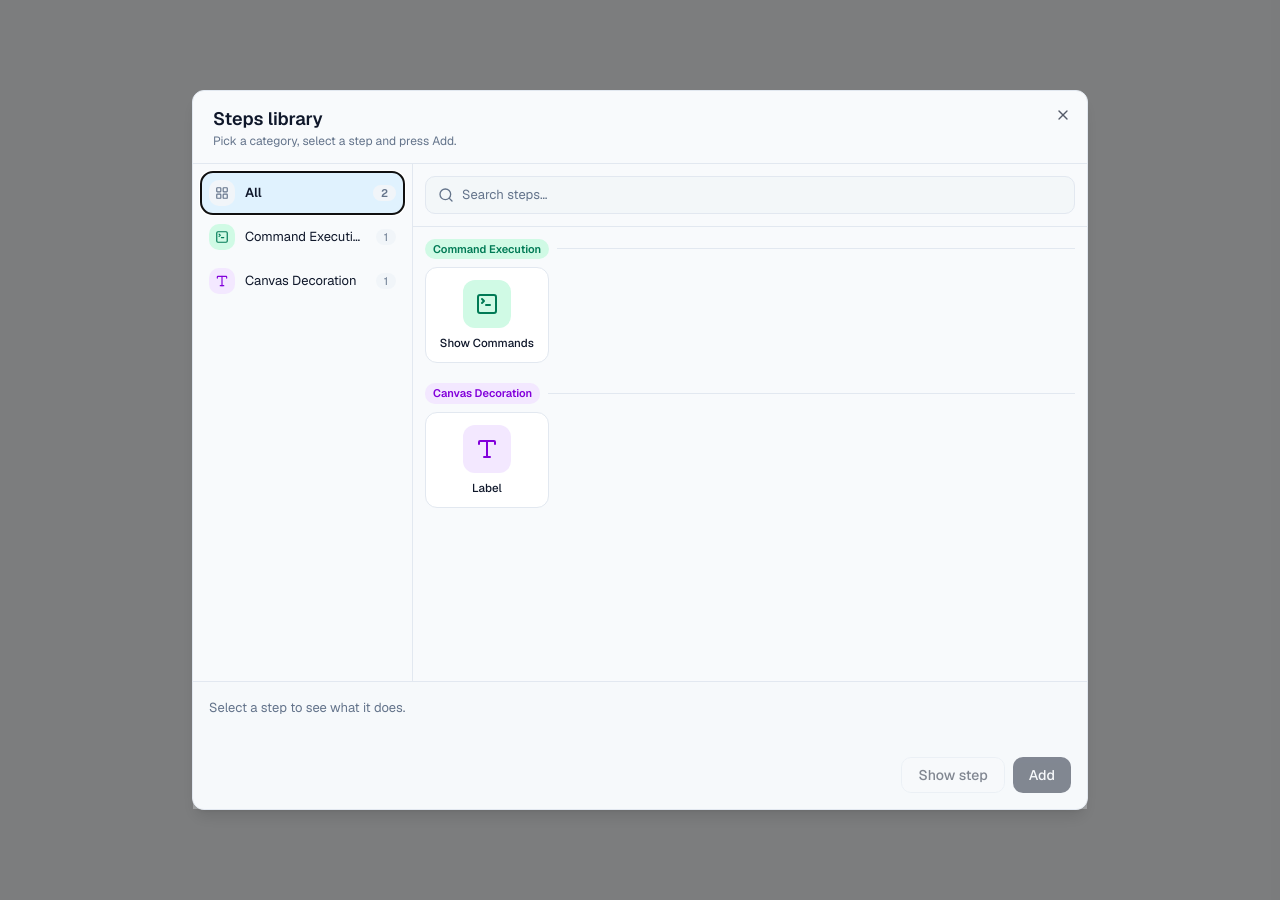
Test case: StepLibraryDialog › shows the step details in a second modal without adding the step
This screenshot has width=1280, height=900.
Expected: the button "Show step" is disabled, [901, 757, 1005, 793]
Click the button "Show Commands": (487, 315) [425, 267, 549, 363]
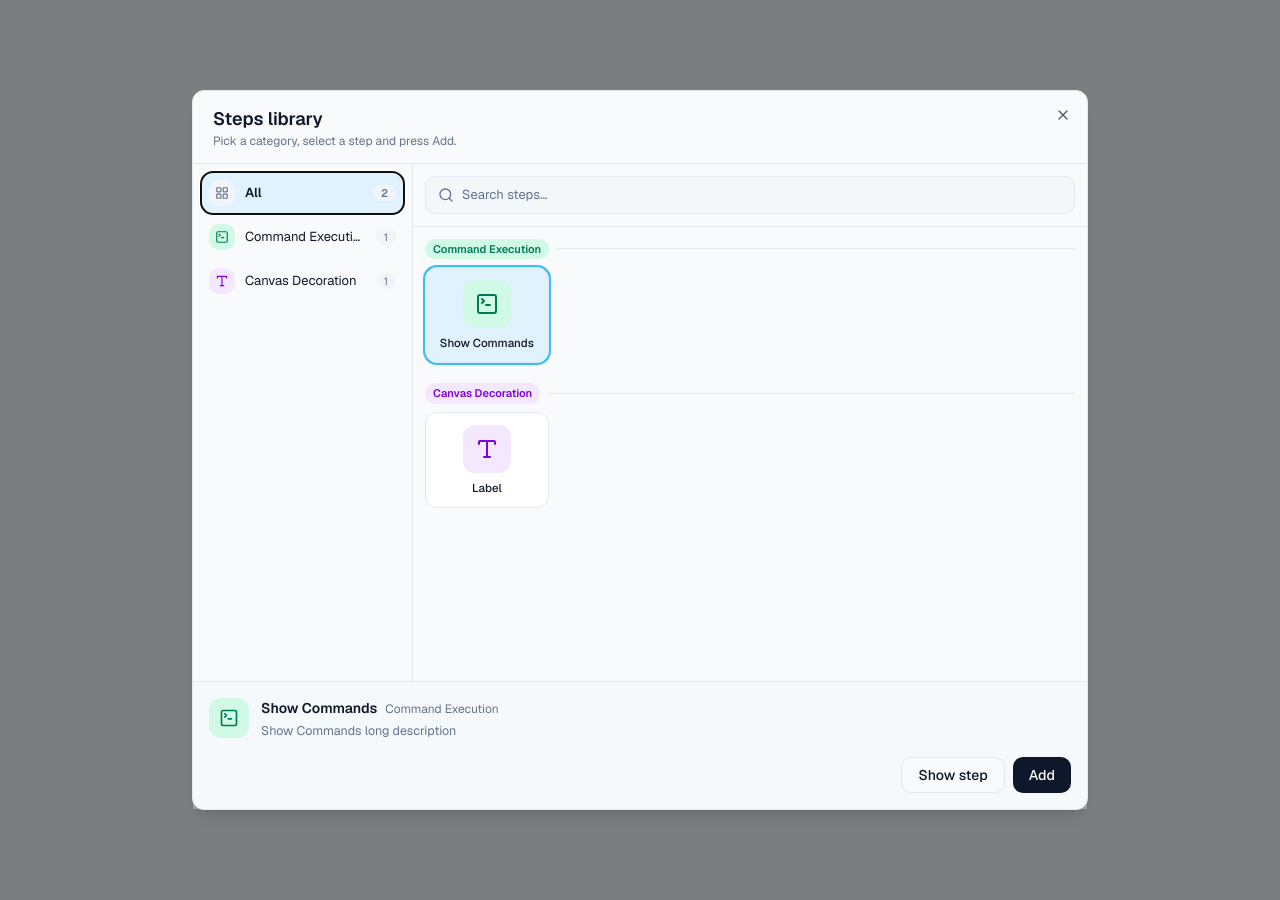
Click the button "Show step": (953, 775) [901, 757, 1005, 793]
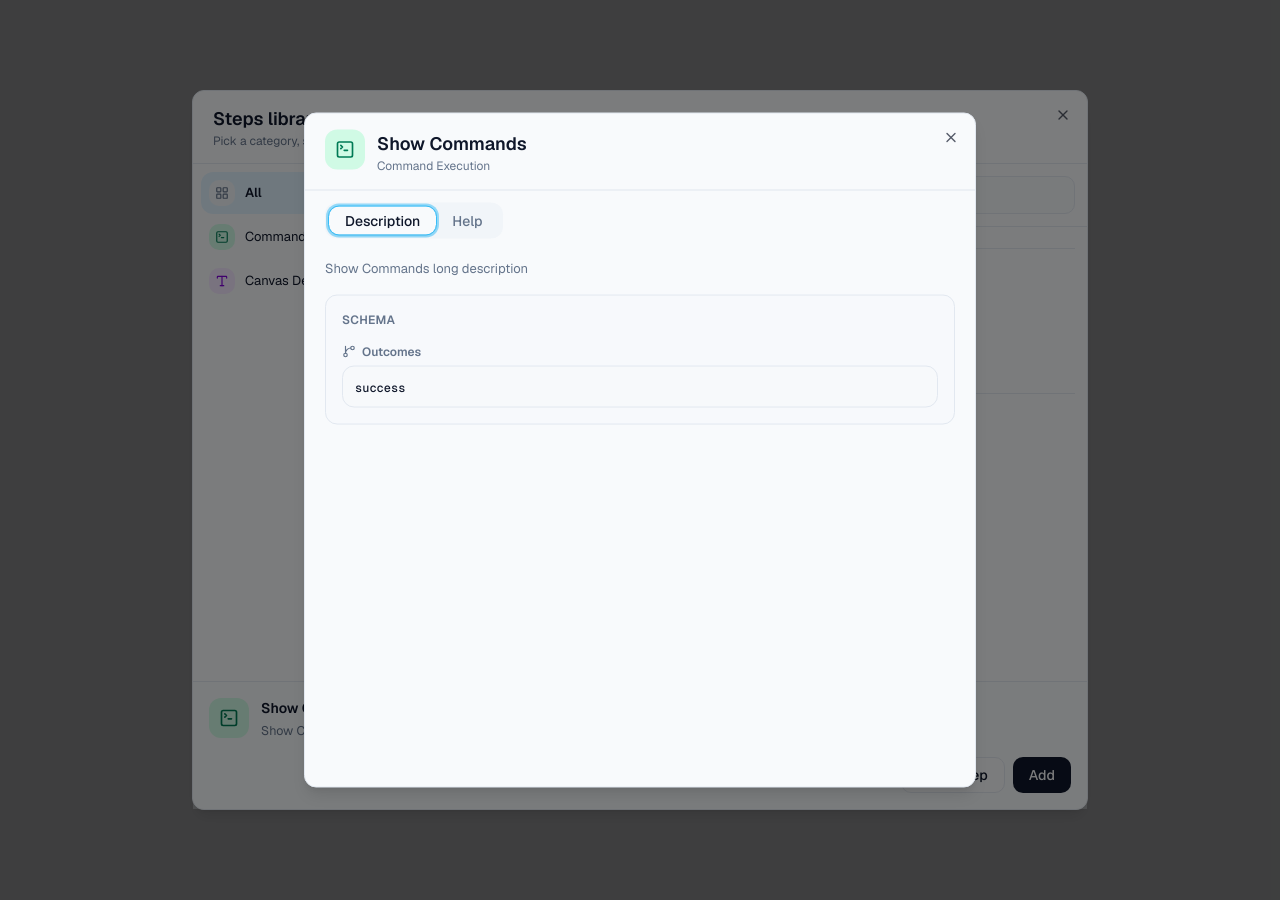
Now the heading "Show Commands" is shown, box [377, 130, 527, 158]
Now the text "Show Commands long description" is shown, box [325, 260, 528, 276]
Press the mouse on the tab "Help": (467, 220) [436, 206, 499, 234]
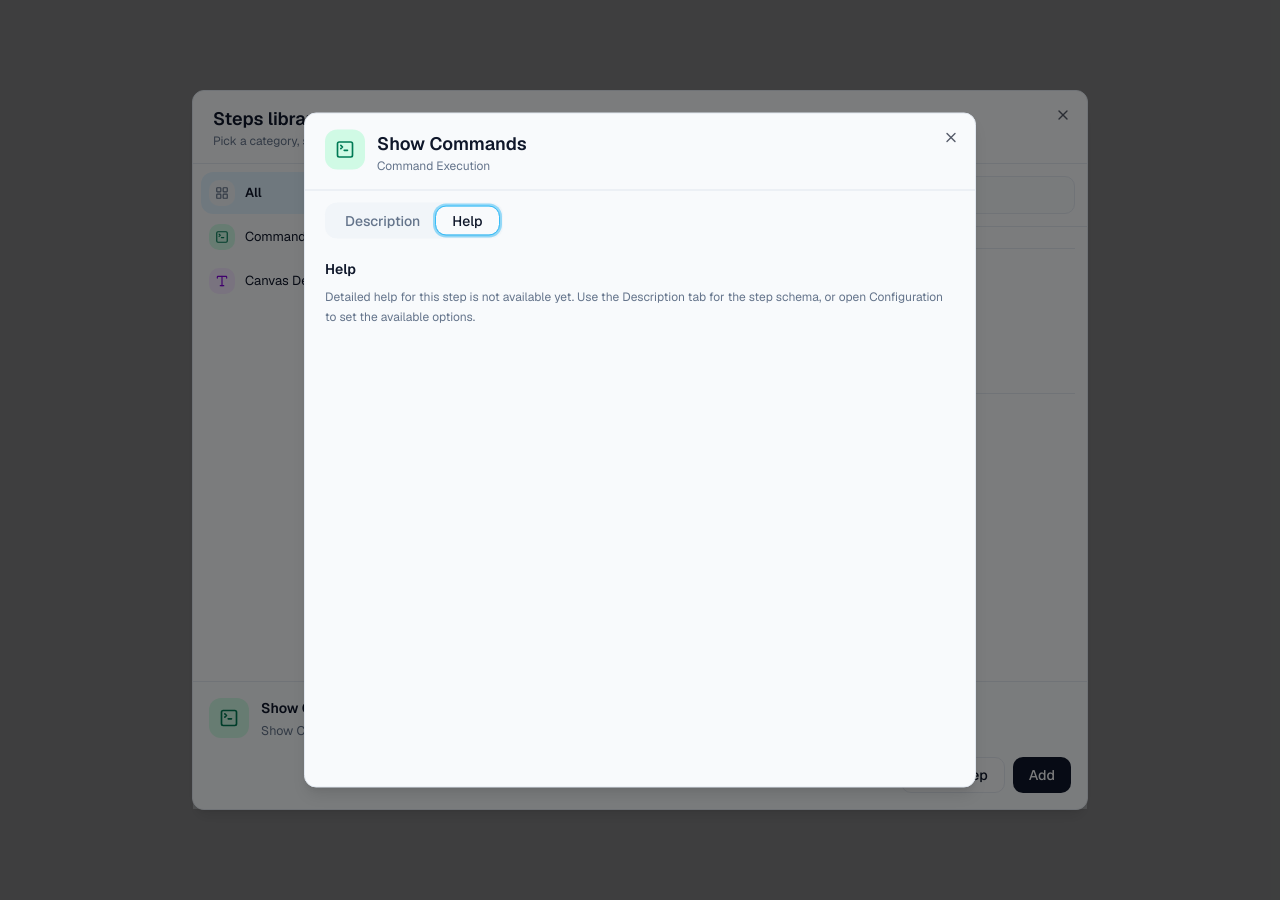
Now the text "not available yet" is shown, box [325, 288, 943, 324]
